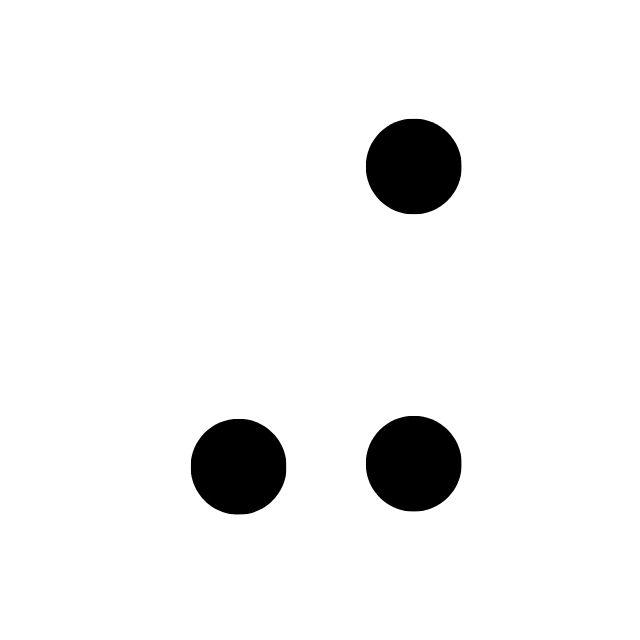K: (364, 118, 605, 514)
capital: (47, 119, 288, 515)
